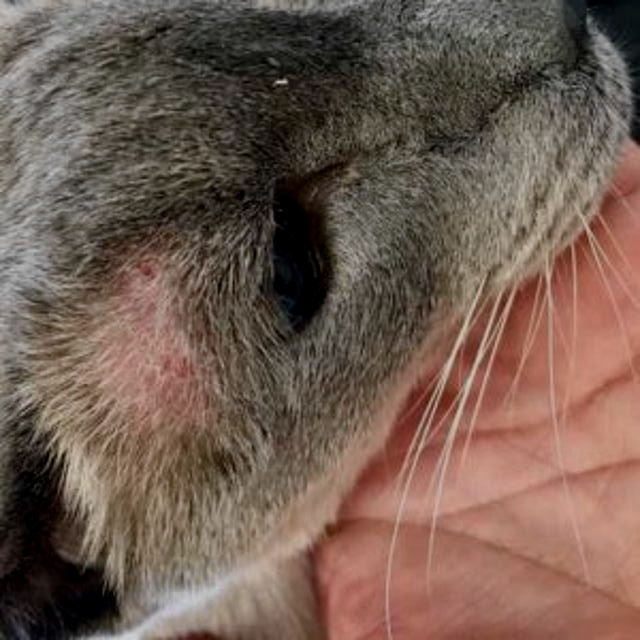ringworm: (95, 267, 183, 407)
